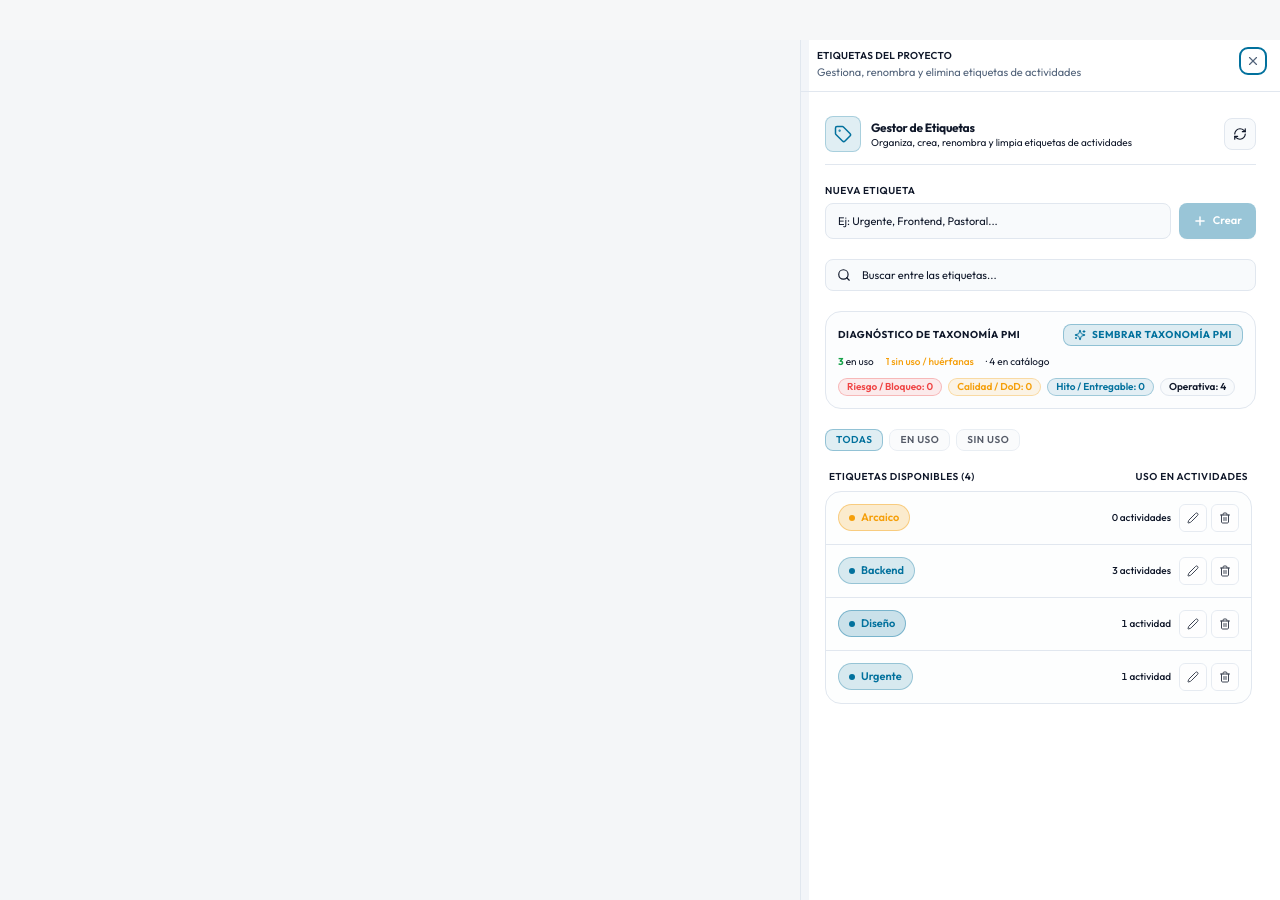
Test: ProjectLabelsDrawer — Gobernanza de Taxonomía PMI › filtra las etiquetas por uso con labels-usage-filter
Expected: the text "Arcaico" is shown, 861,509 -> 899,526
Expected: the text "Backend" is shown, 861,562 -> 904,579
# "Sin Uso": solo la huérfana Arcaico
Click the button "Sin Uso" at (988, 440), box 956,428 -> 1020,450
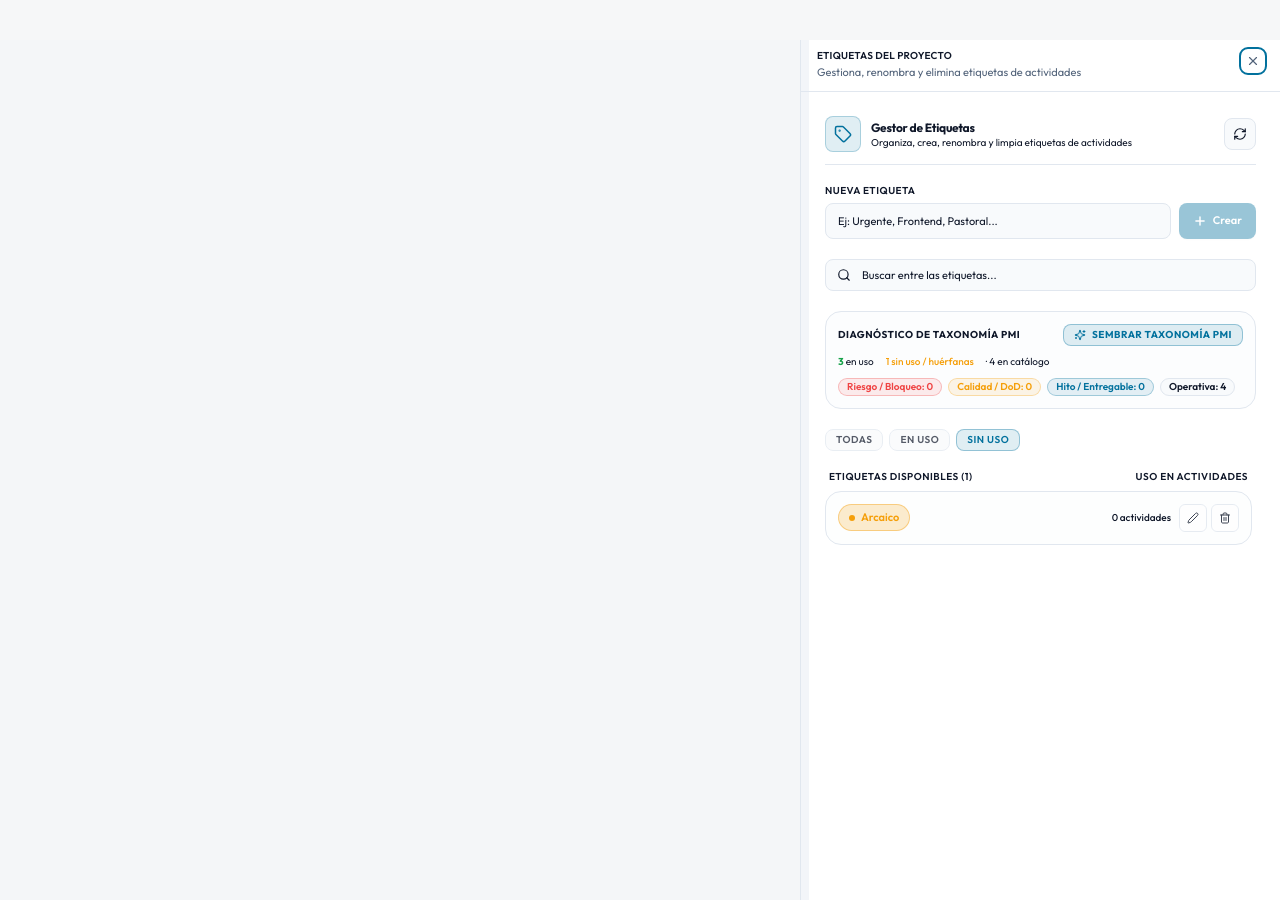
Expected: the text "Arcaico" is shown, 861,509 -> 899,526
Expected: the text "Backend" is gone
# "En Uso": solo etiquetas con actividad asociada
Click the button "En Uso" at (920, 440), box 890,428 -> 950,450
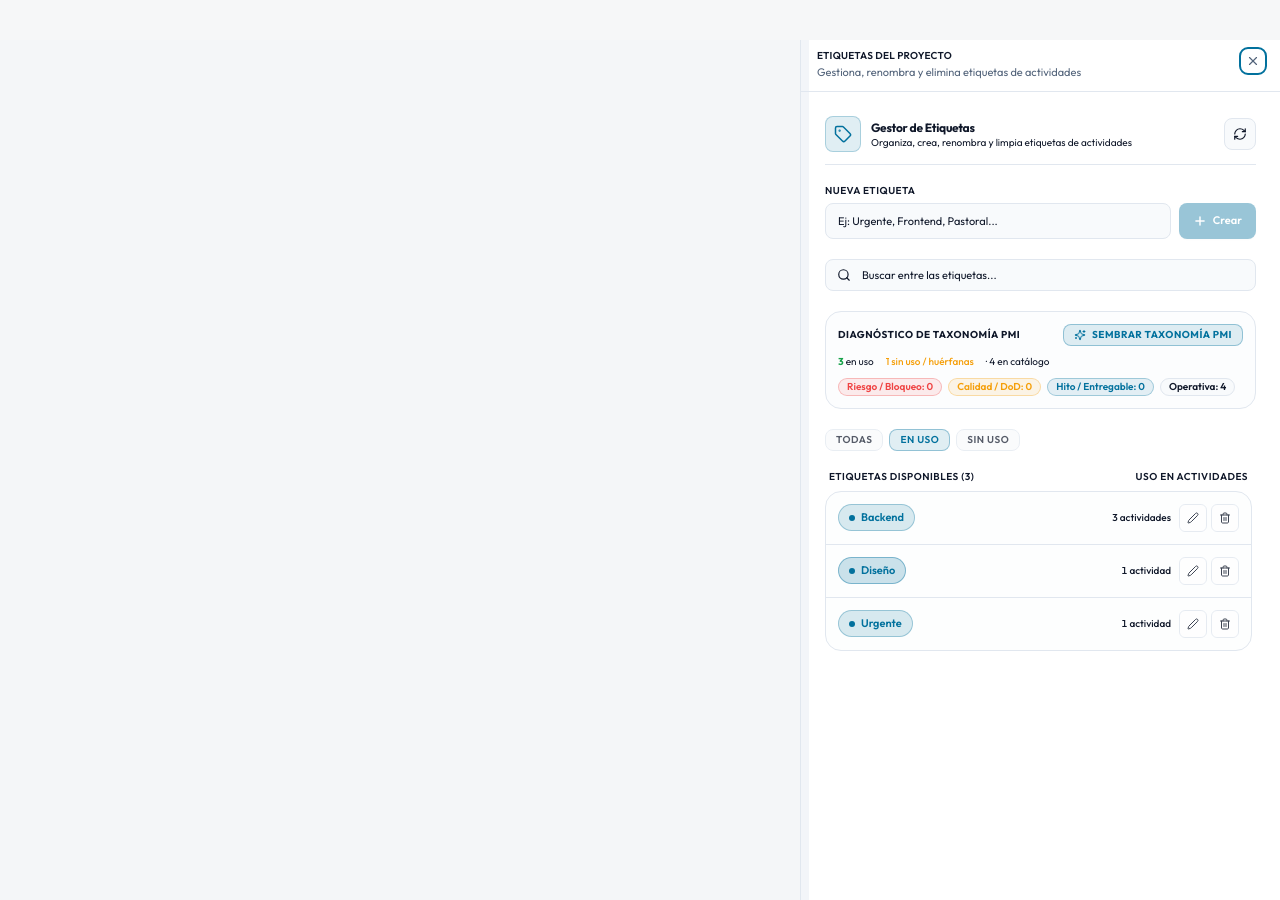
Expected: the text "Backend" is shown, 861,509 -> 904,526
Expected: the text "Arcaico" is gone
# Retorno a "Todas": catálogo completo
Click the button "Todas" at (854, 440), box 825,428 -> 884,450
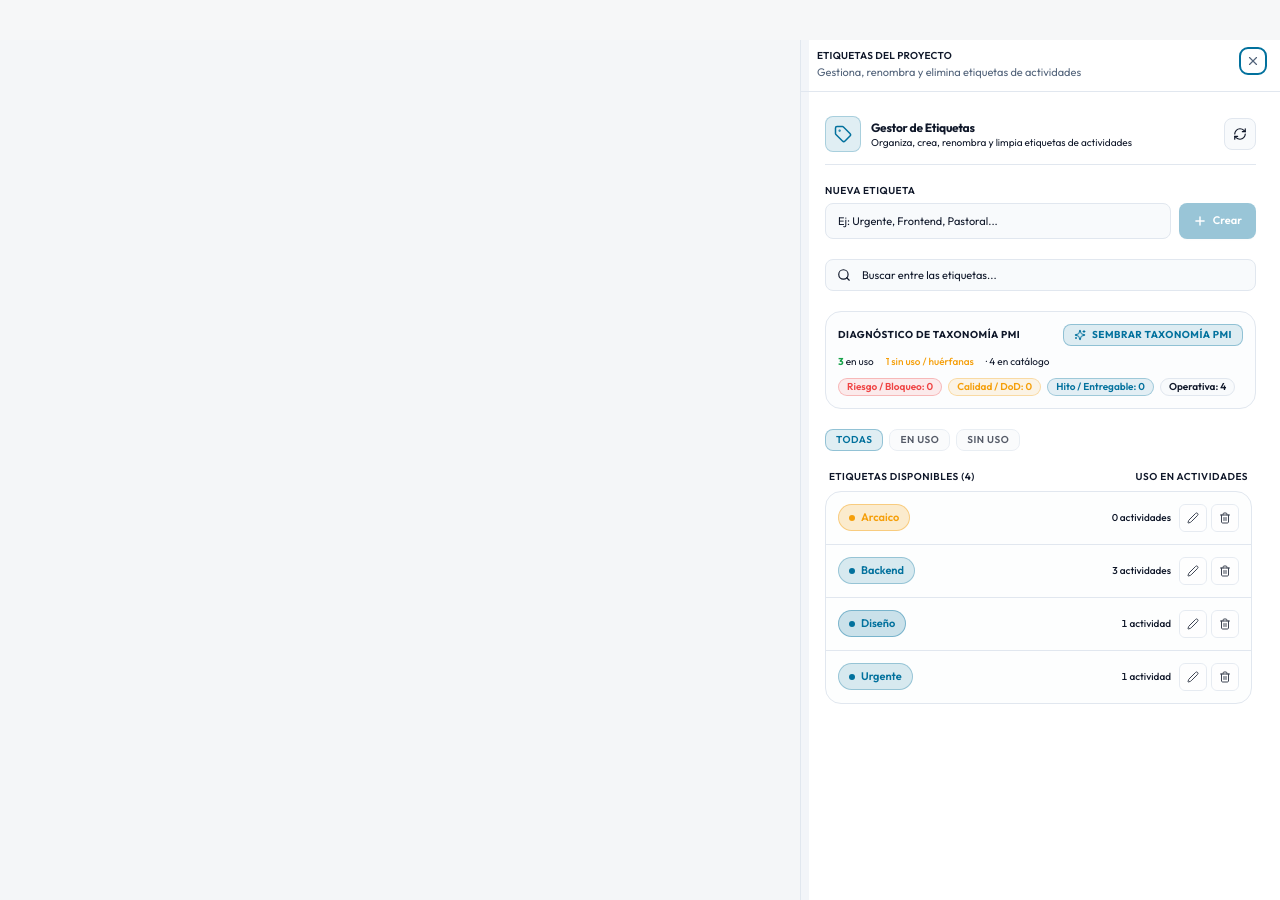
Expected: the text "Backend" is shown, 861,562 -> 904,579
Expected: the text "Arcaico" is shown, 861,509 -> 899,526
